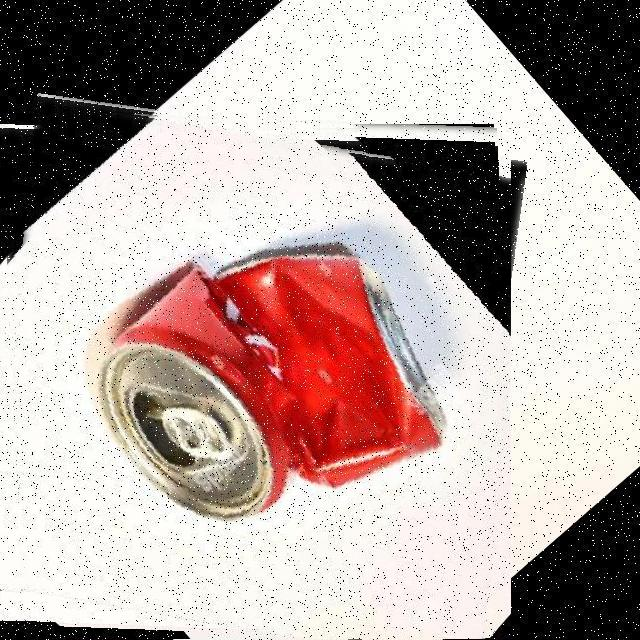recyclable: (0, 109, 511, 639)
